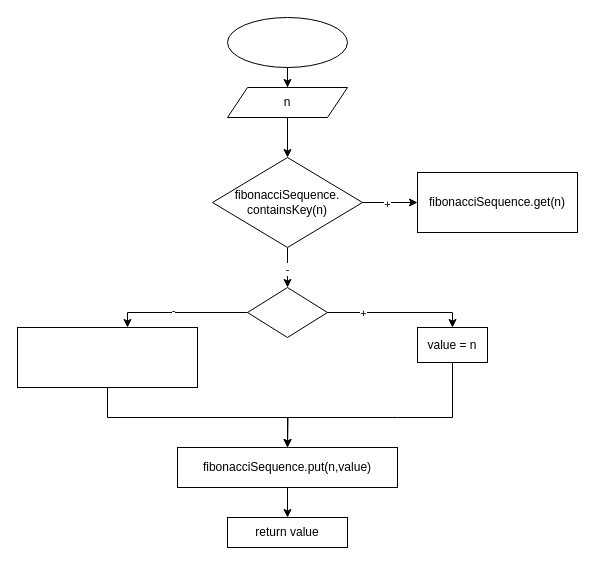
This 595x565 diagram has some shape labels left out. Here are the shapes that lost their labels. From the top down, the centre of each, then its label:
[287,42]: findValueByIndex
[287,312]: n<=1
[107,357]: value = findValueByIndex(n-1) + findValueByIndex(n-2)
